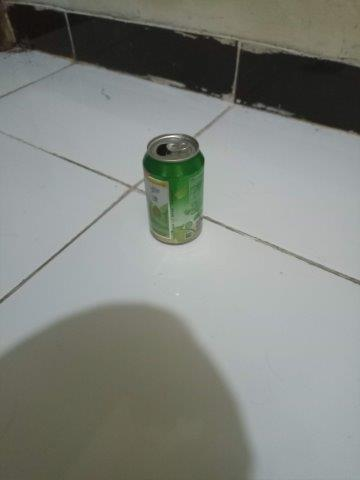kaleng: (143, 133, 205, 245)
